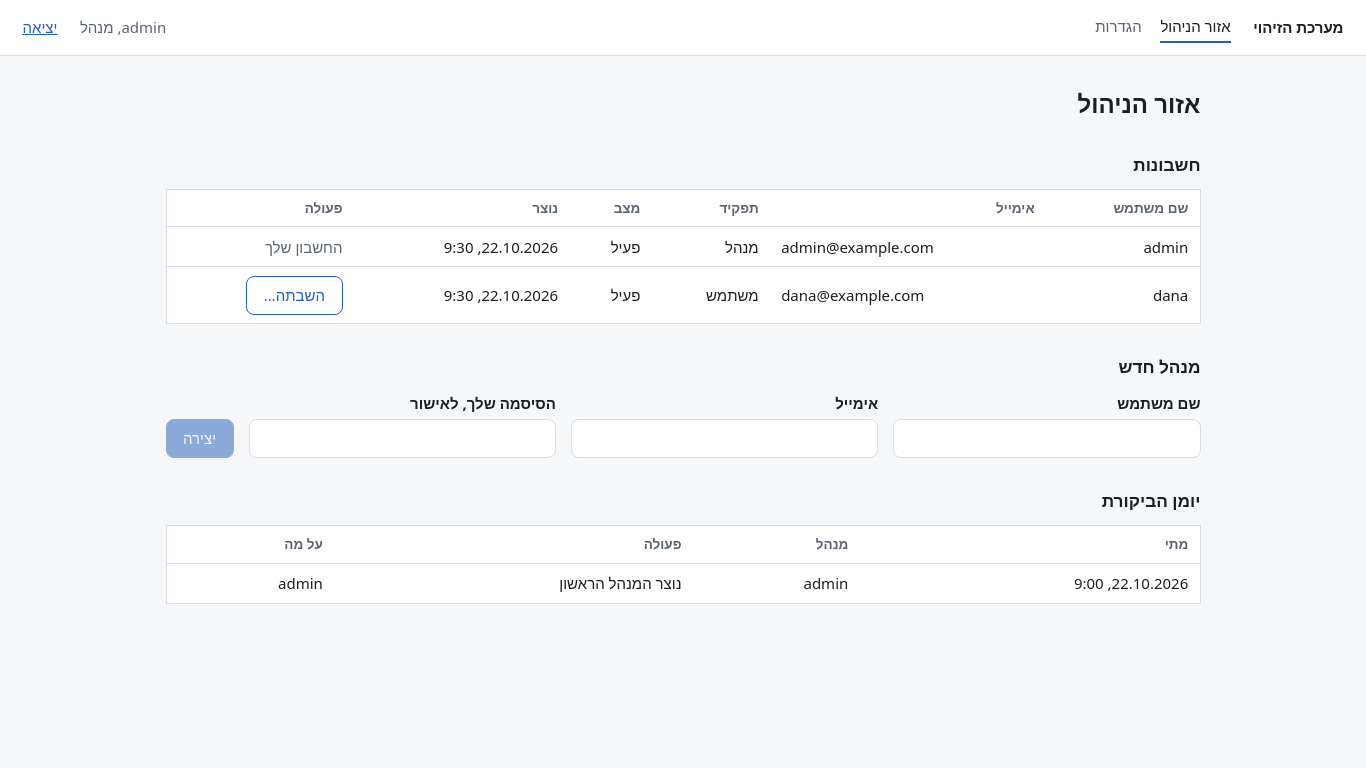
Test case: the administration area › disables an account only after the administrator gives the password again
This screenshot has width=1366, height=768.
Expected: the text "החשבון שלך" is shown, 265,237 -> 342,257
Click the button "השבתה…" at coordinates (294, 295), box 246,276 -> 342,315
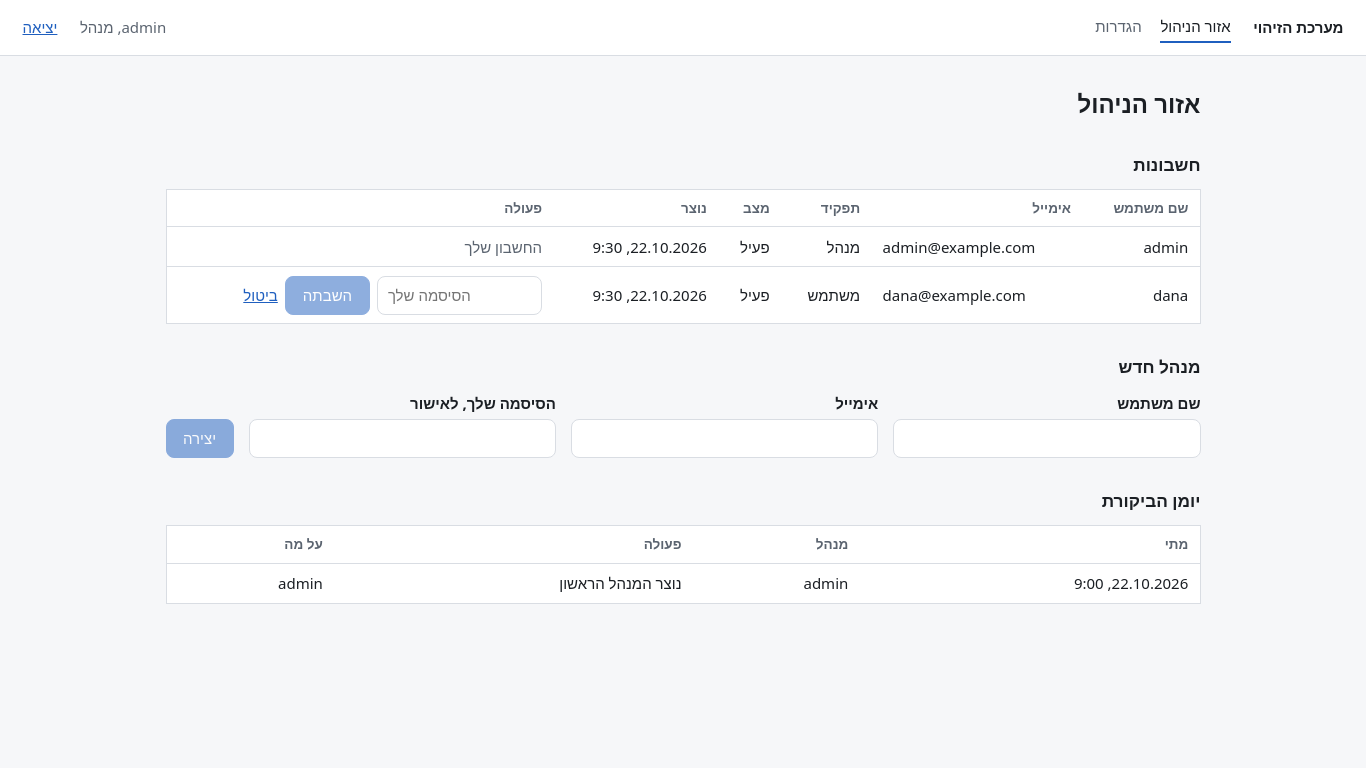
Type "not the password" into the password field named "הסיסמה שלך, לאישור" at coordinates (460, 295), box 377,276 -> 542,315
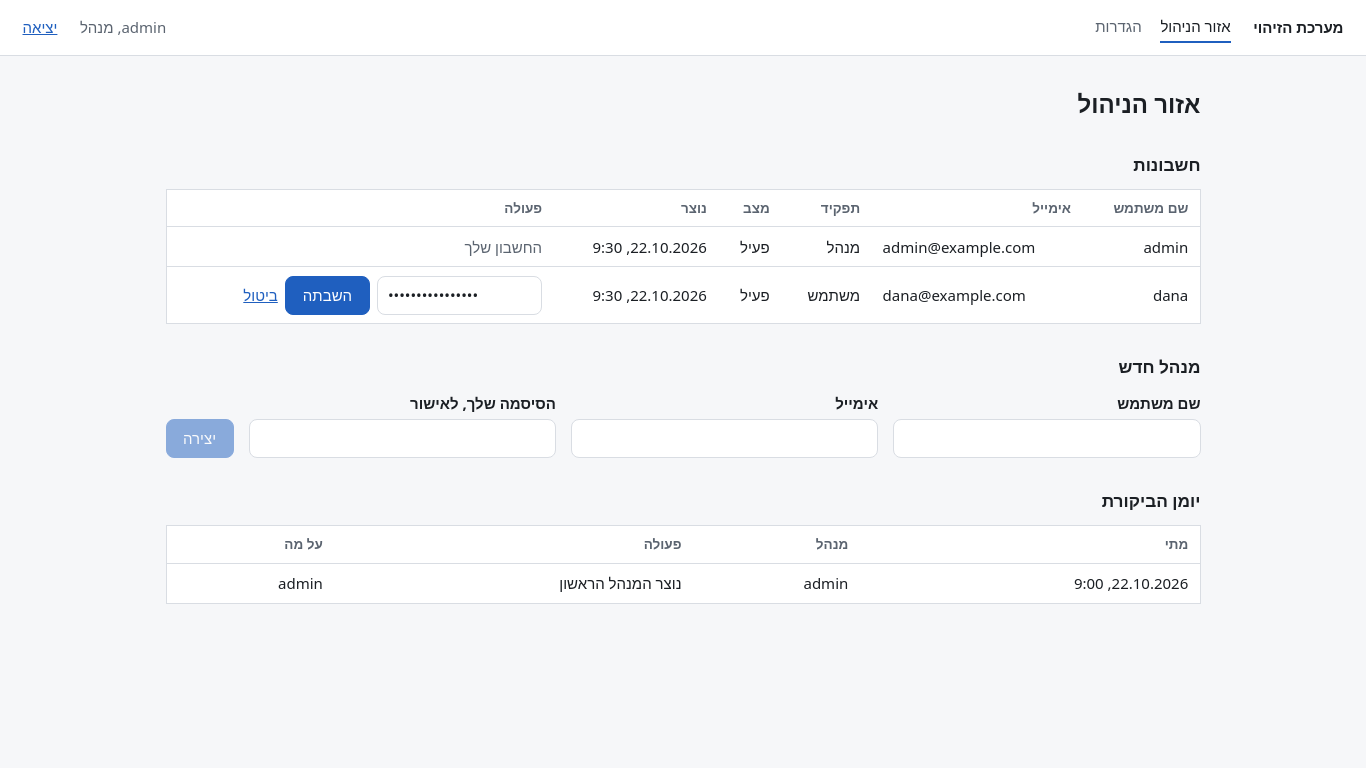
Click the button "השבתה" at coordinates (327, 295), box 285,276 -> 370,315
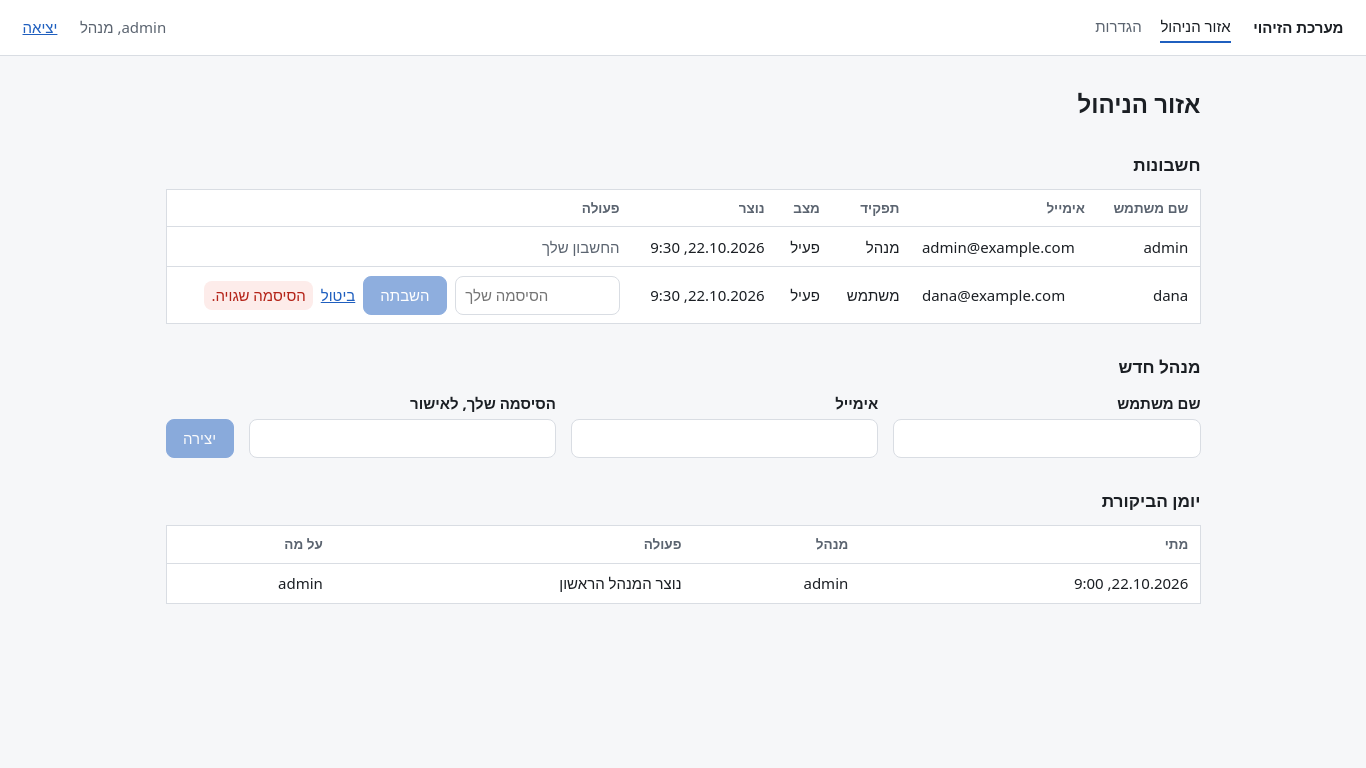
Expected: the text "הסיסמה שגויה." is shown, 204,281 -> 313,310
Type "admin password 1" into the password field named "הסיסמה שלך, לאישור" at coordinates (537, 295), box 455,276 -> 620,315
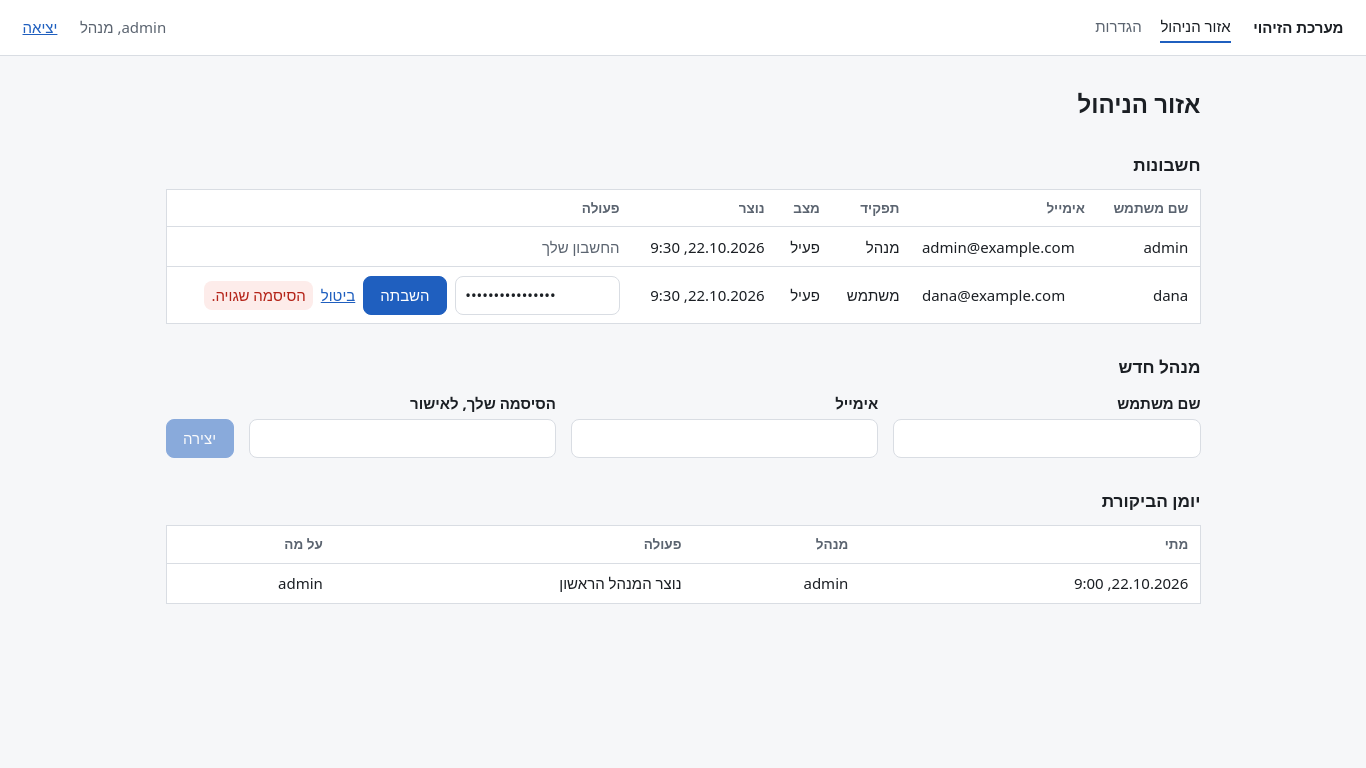
Click the button "השבתה" at coordinates (405, 295), box 363,276 -> 447,315
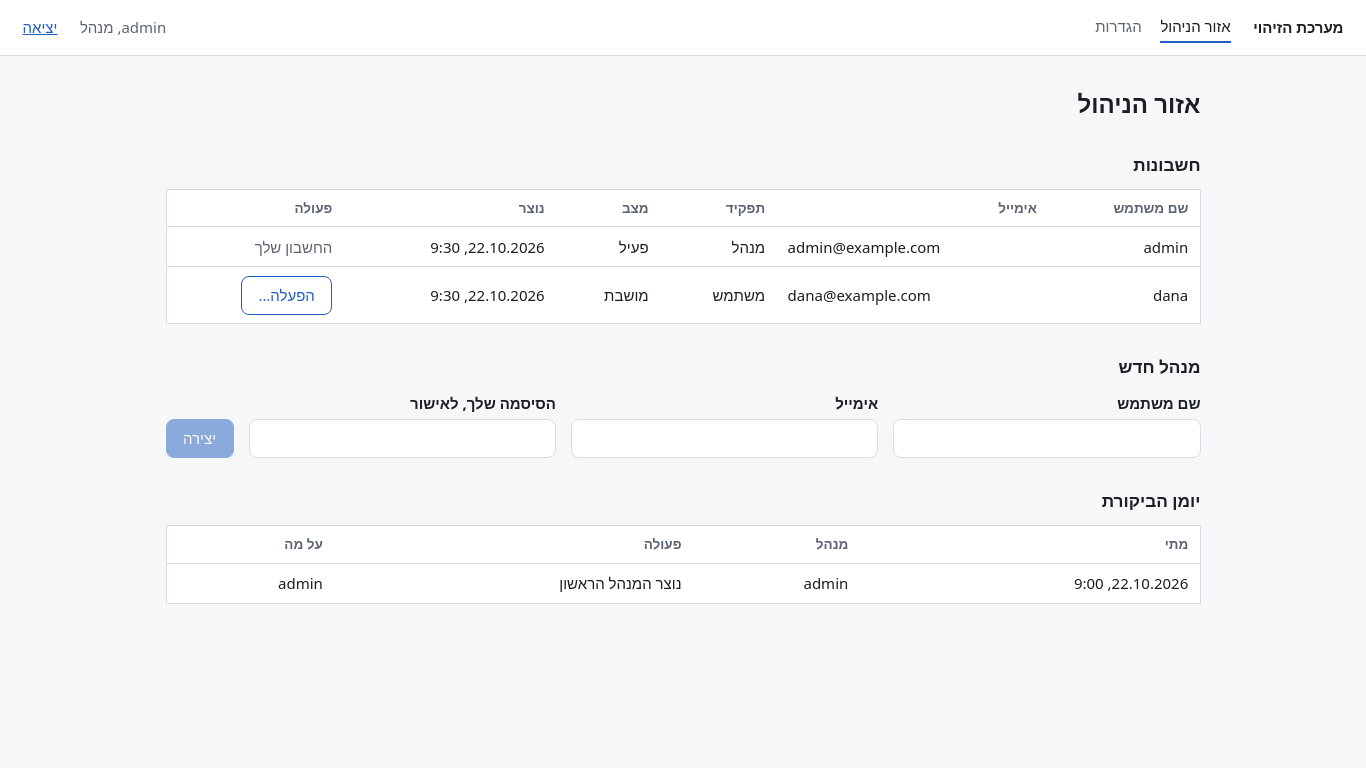
Expected: the text "מושבת" is shown, 556,267 -> 660,324
